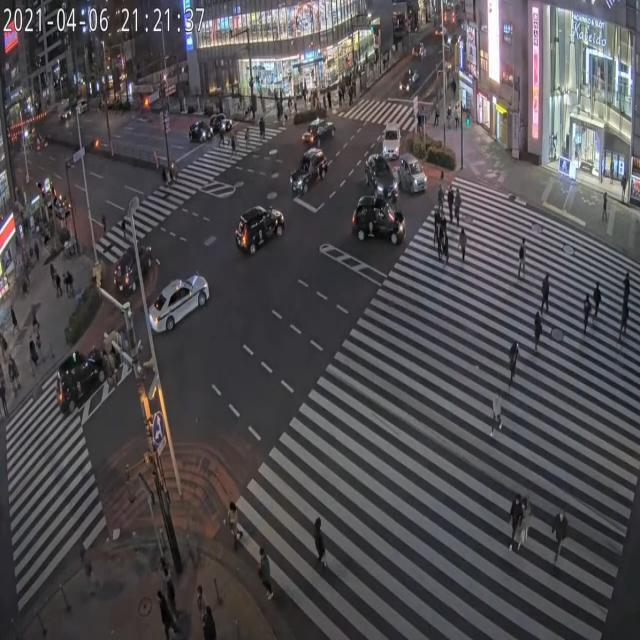humans: (220, 501, 246, 566), (256, 542, 275, 614), (488, 374, 504, 451), (552, 500, 570, 568), (502, 333, 522, 394), (307, 511, 326, 570), (537, 266, 551, 326), (590, 274, 604, 327), (579, 292, 593, 342), (510, 494, 522, 551), (531, 309, 543, 361), (522, 500, 531, 556), (456, 226, 467, 268), (446, 185, 456, 231), (455, 186, 463, 233), (439, 225, 448, 264), (518, 240, 526, 280), (622, 298, 630, 338), (434, 201, 439, 252), (439, 202, 448, 226), (438, 174, 443, 209)
